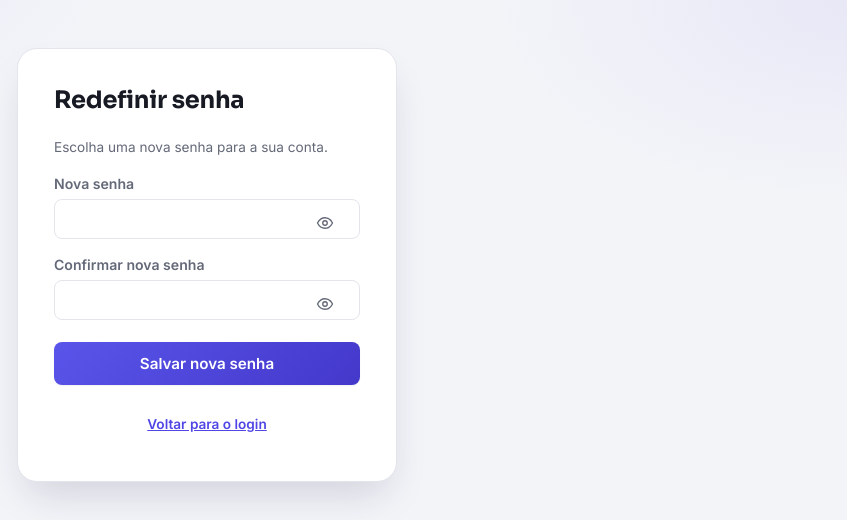
ResetPasswordPage › redefine a senha com o token da URL e mostra o sucesso
Type "novaSenha123" into the password field labelled "Nova senha" at (207, 219), box [54,199,360,239]
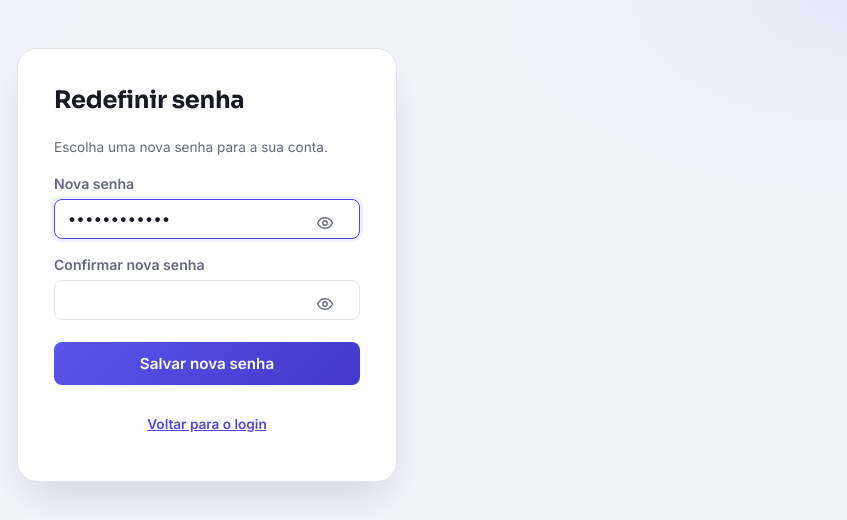
Type "novaSenha123" into the password field labelled "Confirmar nova senha" at (207, 300), box [54,280,360,320]
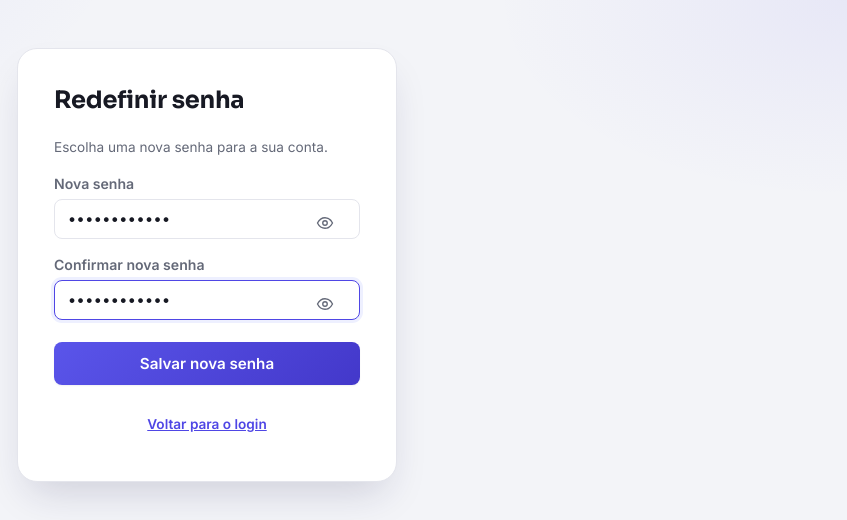
Click the button "Salvar nova senha" at (207, 363), box [54,342,360,385]
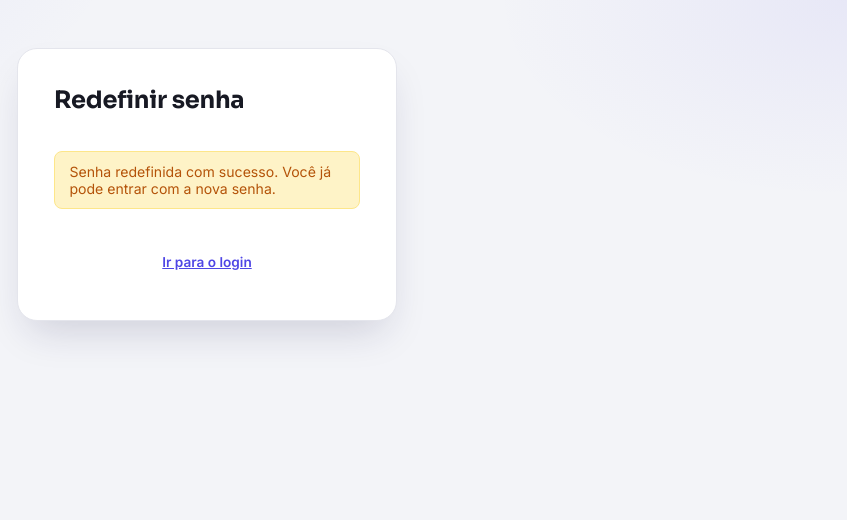
Expected: the text "Senha redefinida com sucesso. Você já pode entrar com a nova senha." is shown, [54,151,360,209]
